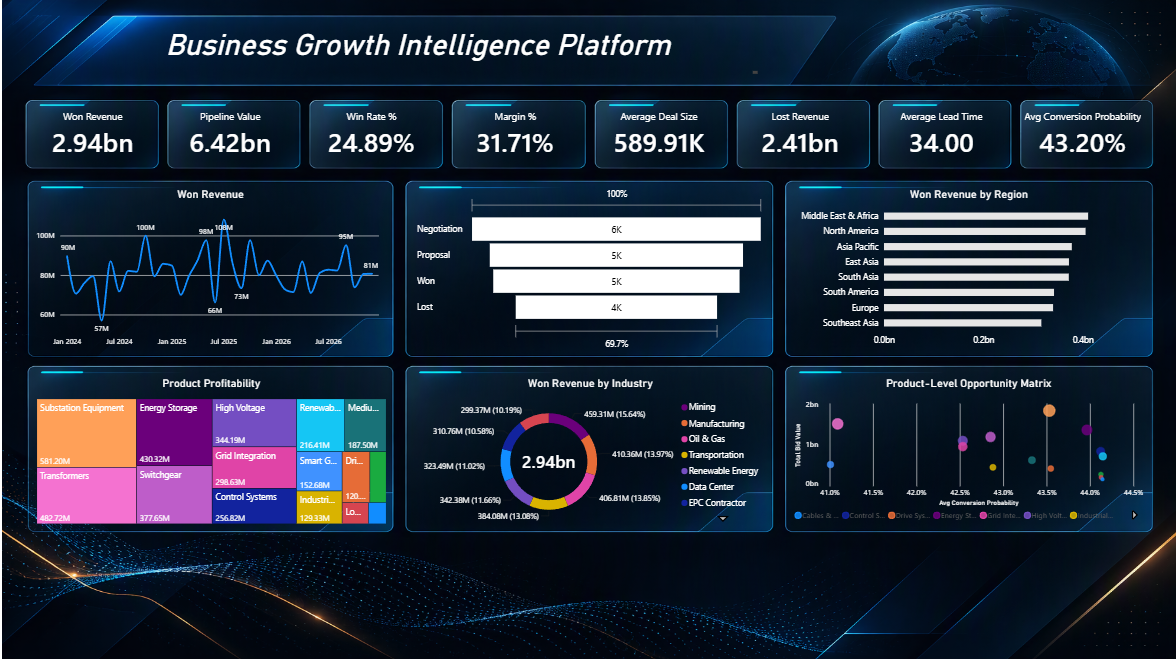

Layout of this report page (visuals, bound fields, positions):
{"tool":"powerbi","page":{"name":"Page 1","canvas":[1920,1080],"ordinal":0},"visuals":[{"type":"cardVisual","fields":{"Data":["Fact_Bids.Won Revenue"]},"box":[41.2,164.7,218.2,111.1],"z":0},{"type":"cardVisual","fields":{"Data":["Fact_Bids.Win Rate %"]},"box":[489.9,164.7,230.5,111.1],"z":1000},{"type":"cardVisual","fields":{"Data":["Fact_Bids.Pipeline Value"]},"box":[259.3,164.7,230.5,111.1],"z":2000},{"type":"cardVisual","fields":{"Data":["Fact_Bids.Margin %"]},"box":[720.4,164.7,238.8,111.1],"z":3000},{"type":"cardVisual","fields":{"Data":["Fact_Bids.Average Deal Size"]},"box":[959.2,164.7,230.5,111.1],"z":4000},{"type":"cardVisual","fields":{"Data":["Fact_Bids.Lost Revenue"]},"box":[1189.7,164.7,230.5,111.1],"z":5000},{"type":"cardVisual","fields":{"Data":["Fact_Bids.Average Lead Time"]},"box":[1420.2,164.7,230.5,111.1],"z":6000},{"type":"cardVisual","fields":{"Data":["Fact_Bids.Avg Conversion Probability"]},"box":[1650.8,164.7,230.5,111.1],"z":7000},{"type":"lineChart","title":"Won Revenue ","fields":{"Category":["Dim_Date.YearMonth.Variation.Date Hierarchy.Year","Dim_Date.YearMonth.Variation.Date Hierarchy.Quarter","Dim_Date.YearMonth.Variation.Date Hierarchy.Month","Dim_Date.YearMonth.Variation.Date Hierarchy.Day"],"Y":["Fact_Bids.Won Revenue"]},"box":[41.2,294.3,603.1,294.3],"z":8000},{"type":"funnel","fields":{"Category":["Fact_Bids.BidStatus"],"Y":["Fact_Bids.Total Bids"]},"box":[662.6,292.6,598.2,296.3],"z":9000},{"type":"clusteredBarChart","title":"Won Revenue by Region","fields":{"Category":["Dim_Regions.RegionName"],"Y":["Fact_Bids.Won Revenue"]},"box":[1279.1,294.5,601.8,294.5],"z":10000},{"type":"treemap","title":"Product Profitability","fields":{"Group":["Dim_Products.ProductFamily"],"Values":["Fact_Bids.Total Margin"]},"box":[42.3,601.8,601.8,270.6],"z":11000},{"type":"donutChart","fields":{"Category":["Dim_Customers.Industry"],"Y":["Fact_Bids.Won Revenue"]},"box":[662.6,601.8,598.2,270.6],"z":12000},{"type":"scatterChart","title":"Product-Level Opportunity Matrix","fields":{"Series":["Dim_Products.ProductFamily"],"Size":["Sum(Fact_Bids.MarginUSD)"],"X":["Fact_Bids.Avg Conversion Probability"],"Y":["Fact_Bids.Total Bid Value"]},"box":[1279,601.2,601.2,270.4],"z":12001},{"type":"textbox","title":"Business Growth Intelligence Platform","box":[126.8,46.4,1108.9,75],"z":12002}]}

Visuals, with their boxes in screenshot pixels (x1, y1, x2, y2), scaled from the page's 1920x1080 canvas onto the 1176x659 screenshot:
cardVisual - Fact_Bids.Won Revenue: (25,100,159,168)
cardVisual - Fact_Bids.Win Rate %: (300,100,441,168)
cardVisual - Fact_Bids.Pipeline Value: (159,100,300,168)
cardVisual - Fact_Bids.Margin %: (441,100,588,168)
cardVisual - Fact_Bids.Average Deal Size: (588,100,729,168)
cardVisual - Fact_Bids.Lost Revenue: (729,100,870,168)
cardVisual - Fact_Bids.Average Lead Time: (870,100,1011,168)
cardVisual - Fact_Bids.Avg Conversion Probability: (1011,100,1152,168)
"Won Revenue " lineChart: (25,180,395,359)
funnel - Fact_Bids.BidStatus x Fact_Bids.Total Bids: (406,179,772,359)
"Won Revenue by Region" clusteredBarChart: (783,180,1152,359)
"Product Profitability" treemap: (26,367,395,532)
donutChart - Dim_Customers.Industry x Fact_Bids.Won Revenue: (406,367,772,532)
"Product-Level Opportunity Matrix" scatterChart: (783,367,1152,532)
"Business Growth Intelligence Platform" textbox: (78,28,757,74)
